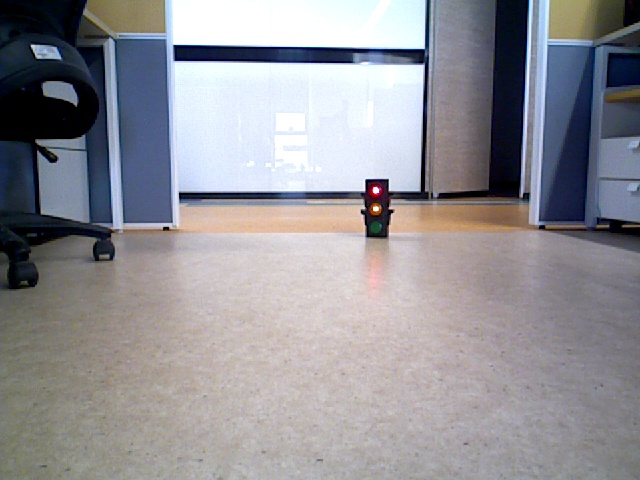red: (365, 178, 387, 234)
